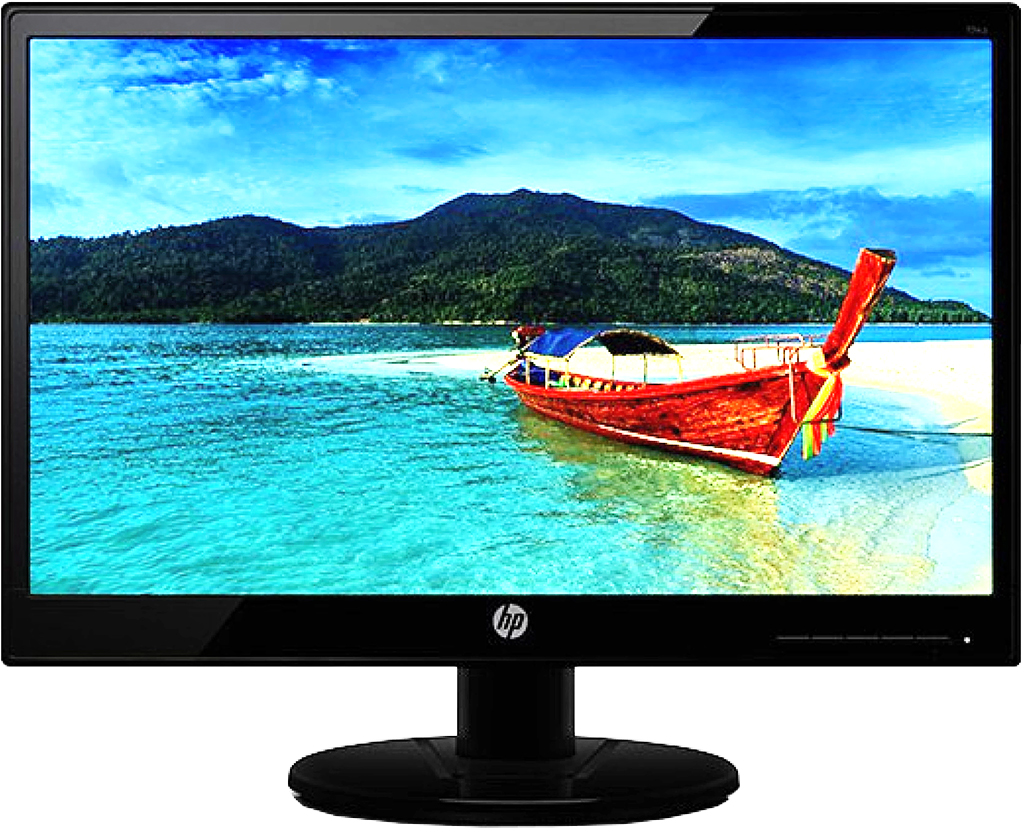hp-monitor-19ka: (1, 3, 1024, 830)
